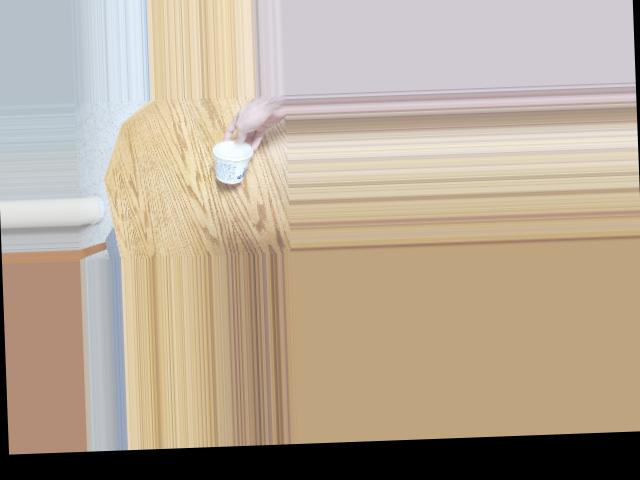cotage: (204, 143, 248, 190)
